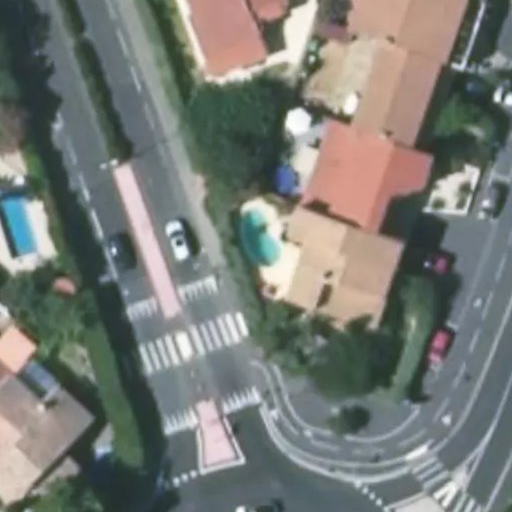pool: (224, 220, 281, 266)
